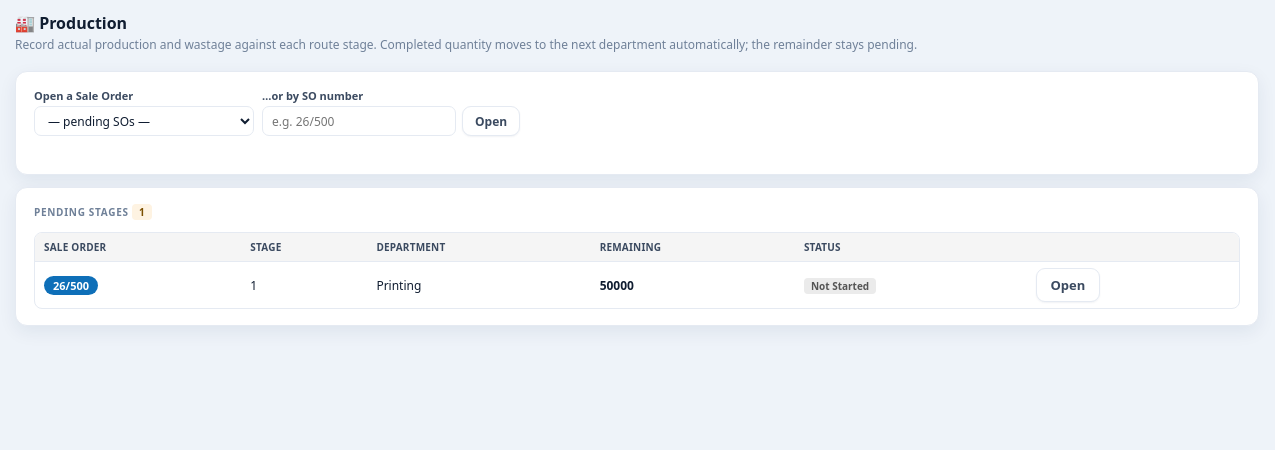
Test: Production page › shows the Ready-to-Plan control to Plant
Step 1. Select "26/500" in the dropdown → (144, 121), box [34, 106, 254, 136]
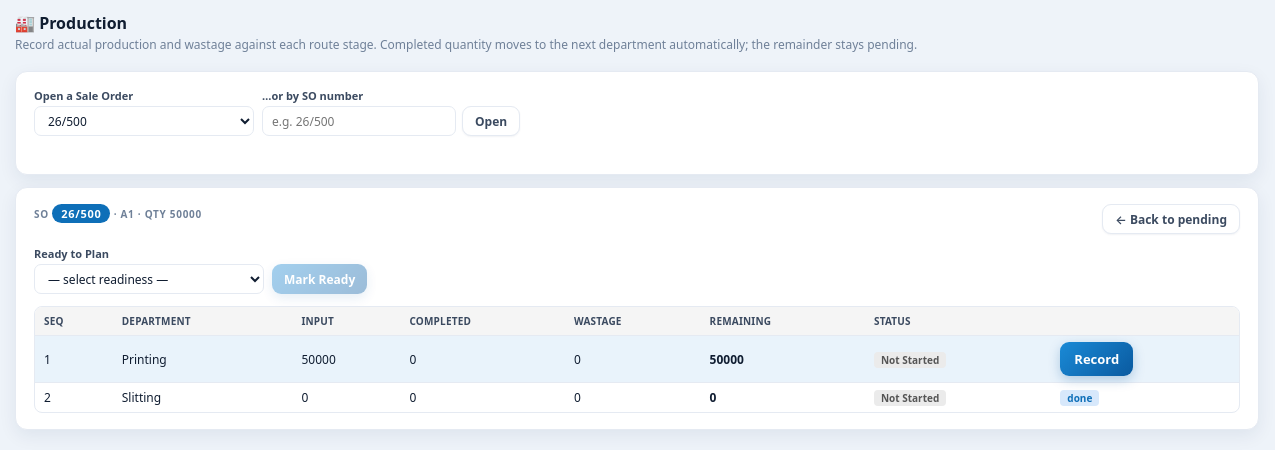
expect the text "Printing" is shown: met, box [113, 336, 292, 382]
expect the button "Mark Ready" is shown: met, box [272, 264, 367, 294]
